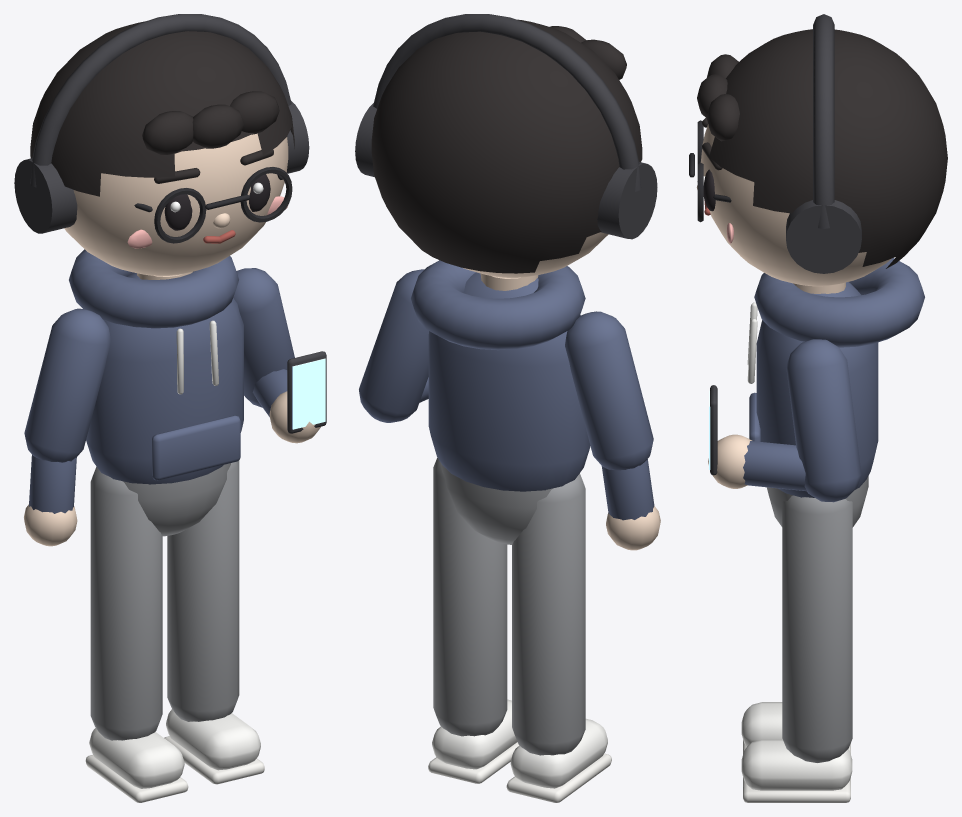
Rendered from Customer_Headphones.fbx.
The picture shows the model from 3 angles, left to right: view 1: azimuth 30°, elevation 25°; view 2: azimuth 150°, elevation 25°; view 3: azimuth 270°, elevation 25°; orthographic projection. The views are drawn at different scales.
Visible parts, largest first — view 1: Head.007, Body.007, Leg_L.007, Leg_R.007, Arm_L.007, Arm_R.007; view 2: Head.007, Body.007, Leg_L.007, Leg_R.007, Arm_L.007, Arm_R.007; view 3: Head.007, Leg_R.007, Body.007, Arm_R.007, Leg_L.007.
Part boxes in pixels (left/top/right/bottom): Head.007: left=14, top=14, right=309, bottom=275; Body.007: left=69, top=249, right=243, bottom=536; Leg_L.007: left=85, top=466, right=188, bottom=802; Leg_R.007: left=164, top=460, right=264, bottom=784; Arm_L.007: left=24, top=308, right=110, bottom=546; Arm_R.007: left=233, top=268, right=326, bottom=443; Head.007: left=355, top=14, right=657, bottom=277; Body.007: left=411, top=260, right=590, bottom=544; Leg_L.007: left=506, top=473, right=611, bottom=802; Leg_R.007: left=428, top=458, right=519, bottom=783; Arm_L.007: left=565, top=311, right=660, bottom=550; Arm_R.007: left=359, top=269, right=428, bottom=422; Head.007: left=689, top=14, right=947, bottom=286; Leg_R.007: left=741, top=495, right=852, bottom=802; Body.007: left=747, top=258, right=924, bottom=527; Arm_R.007: left=708, top=339, right=861, bottom=502; Leg_L.007: left=741, top=702, right=850, bottom=753.
Size of the model in its own units: 0.5061 by 1.3 by 0.409.
